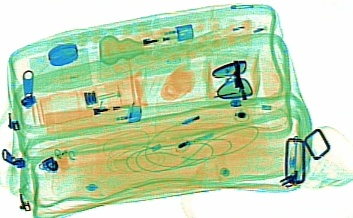lighter: (41, 99, 142, 137), (103, 21, 193, 55)
